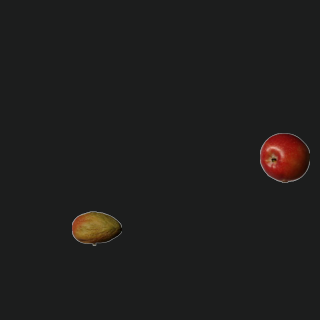Apple Braeburn: (259, 132, 309, 182)
Papaya: (71, 203, 121, 253)
